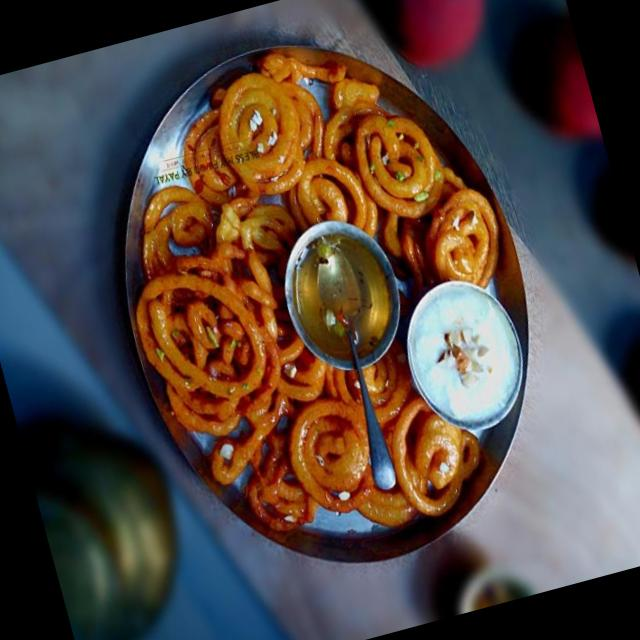jalebi: (83, 18, 560, 577)
